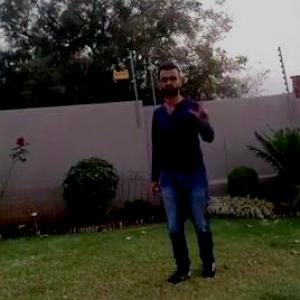land_hand: (187, 90, 218, 123)
